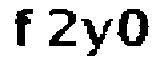0: (117, 6, 150, 51)
2: (47, 7, 78, 50)
f: (11, 5, 37, 50)
y: (80, 16, 114, 59)
